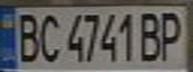1: (115, 9, 139, 62)
4: (63, 9, 84, 63), (100, 9, 121, 63)
7: (81, 9, 100, 63)
B: (9, 9, 42, 64), (136, 9, 166, 62)
C: (36, 10, 63, 64)
P: (154, 8, 190, 62)
